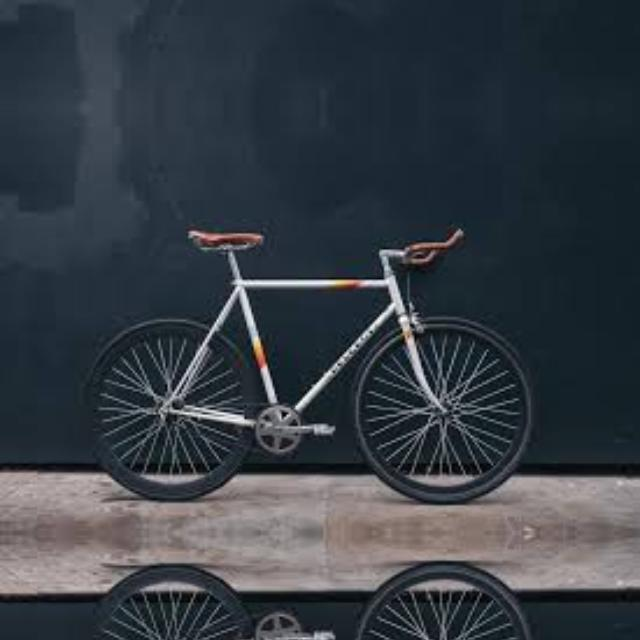obstacle: (87, 215, 545, 511), (87, 555, 545, 640)
